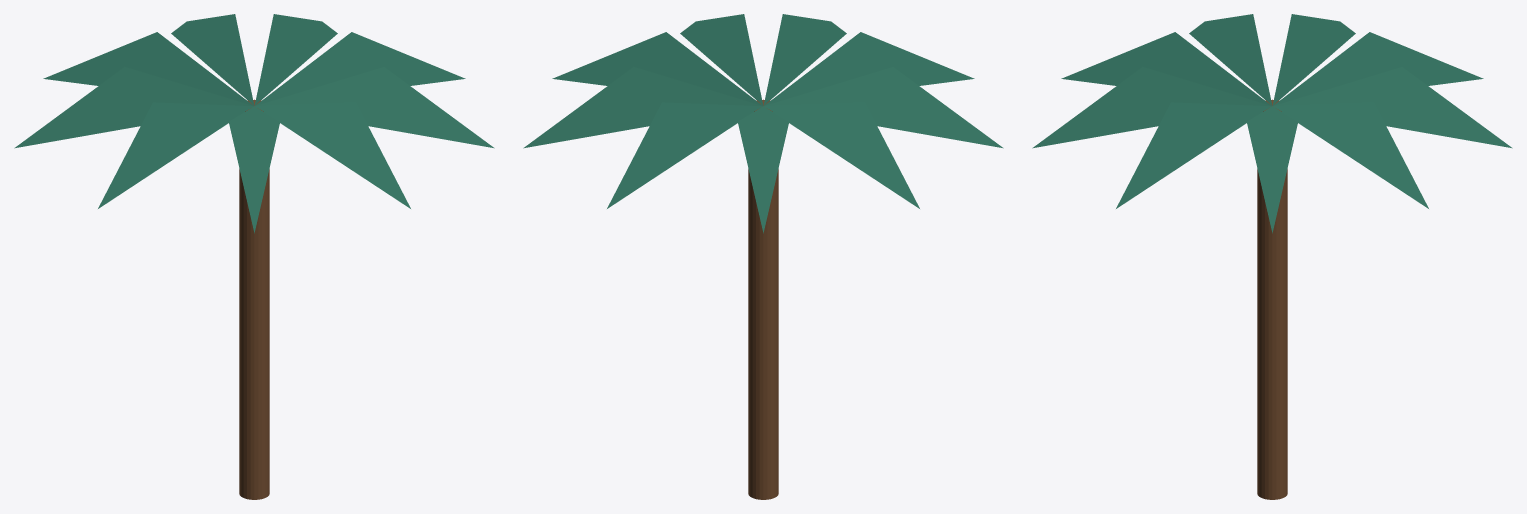
File: SM_Palm.fbx
The picture shows the model from 3 angles, left to right: view 1: azimuth 30°, elevation 25°; view 2: azimuth 150°, elevation 25°; view 3: azimuth 270°, elevation 25°; orthographic projection.
Visible parts, largest first — view 1: SM_Palm; view 2: SM_Palm; view 3: SM_Palm.
Boxes of the visible parts, bbox=[...] form: SM_Palm: bbox=[14, 14, 494, 499]; SM_Palm: bbox=[523, 14, 1003, 499]; SM_Palm: bbox=[1032, 14, 1512, 499].
Bounding box in the file's own units: 621 × 630 × 615.
